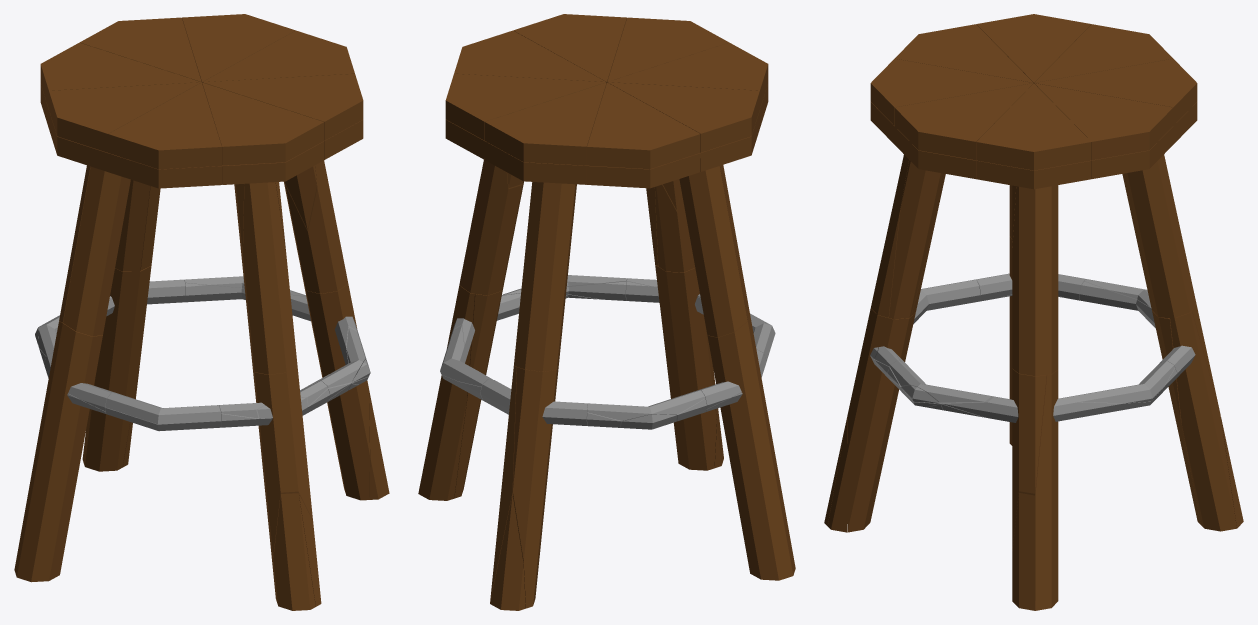
The model's file is LowPolyStoolShattered.fbx.
The picture shows the model from 3 angles, left to right: view 1: azimuth 30°, elevation 25°; view 2: azimuth 150°, elevation 25°; view 3: azimuth 270°, elevation 25°; orthographic projection. The views are drawn at different scales.
Parts seen in each view (by area): view 1: Cylinder.005_cell.014, Cylinder.005_cell.013, Cylinder.005_cell.006, Cylinder.005_cell.004, Stool2_cell.011, Cylinder.005_cell.015, Stool2_cell.009, Cylinder.005_cell.008, Stool2_cell.013, Stool2_cell.007, Stool2_cell.015, Cylinder.005_cell.016 (+26 smaller); view 2: Cylinder.005_cell.014, Cylinder.005_cell.008, Cylinder.005_cell.019, Cylinder.005_cell.006, Stool2_cell.015, Cylinder.005_cell.023, Stool2_cell.001, Stool2_cell.013, Cylinder.005_cell.016, Stool2_cell.003, Cylinder.005_cell.005, Stool2_cell.011 (+25 smaller); view 3: Cylinder.005_cell.016, Cylinder.005_cell.008, Cylinder.005_cell.001, Cylinder.005_cell.002, Stool2_cell.005, Stool2_cell.007, Stool2_cell.003, Cylinder.005_cell.010, Cylinder.005_cell.005, Stool2_cell.009, Stool2_cell.001, Stool2_cell.015 (+20 smaller).
Part boxes in pixels (box(x1,y1,x2,y2)): Cylinder.005_cell.014: box(14, 321, 102, 582); Cylinder.005_cell.013: box(243, 182, 297, 374); Cylinder.005_cell.006: box(83, 265, 151, 471); Cylinder.005_cell.004: box(63, 166, 130, 336); Stool2_cell.011: box(108, 82, 221, 169); Cylinder.005_cell.015: box(304, 284, 369, 500); Stool2_cell.009: box(202, 82, 324, 165); Cylinder.005_cell.008: box(252, 367, 312, 601); Stool2_cell.013: box(49, 82, 201, 152); Stool2_cell.007: box(202, 73, 363, 140); Stool2_cell.015: box(40, 42, 201, 108); Cylinder.005_cell.016: box(284, 160, 348, 293); Cylinder.005_cell.014: box(707, 318, 795, 580); Cylinder.005_cell.008: box(655, 264, 716, 470); Cylinder.005_cell.019: box(679, 166, 747, 337); Cylinder.005_cell.006: box(513, 365, 558, 608); Stool2_cell.015: box(587, 82, 700, 169); Cylinder.005_cell.023: box(525, 182, 576, 371); Stool2_cell.001: box(484, 82, 606, 165); Stool2_cell.013: box(607, 82, 759, 152); Cylinder.005_cell.016: box(459, 160, 522, 295); Stool2_cell.003: box(445, 73, 605, 140); Cylinder.005_cell.005: box(418, 285, 474, 500); Stool2_cell.011: box(607, 42, 768, 108); Cylinder.005_cell.016: box(1012, 185, 1058, 376); Cylinder.005_cell.008: box(847, 308, 915, 532); Cylinder.005_cell.001: box(1170, 311, 1236, 531); Cylinder.005_cell.002: box(1124, 154, 1196, 318); Stool2_cell.005: box(976, 83, 1091, 170); Stool2_cell.007: box(894, 83, 1033, 160); Stool2_cell.003: box(1034, 83, 1173, 160); Cylinder.005_cell.010: box(889, 160, 942, 319); Cylinder.005_cell.005: box(1035, 370, 1058, 610); Stool2_cell.009: box(870, 58, 1033, 125); Stool2_cell.001: box(1034, 58, 1197, 125); Stool2_cell.015: box(1034, 24, 1172, 82).
Bounding box in the file's own units: 257 × 297 × 257.
